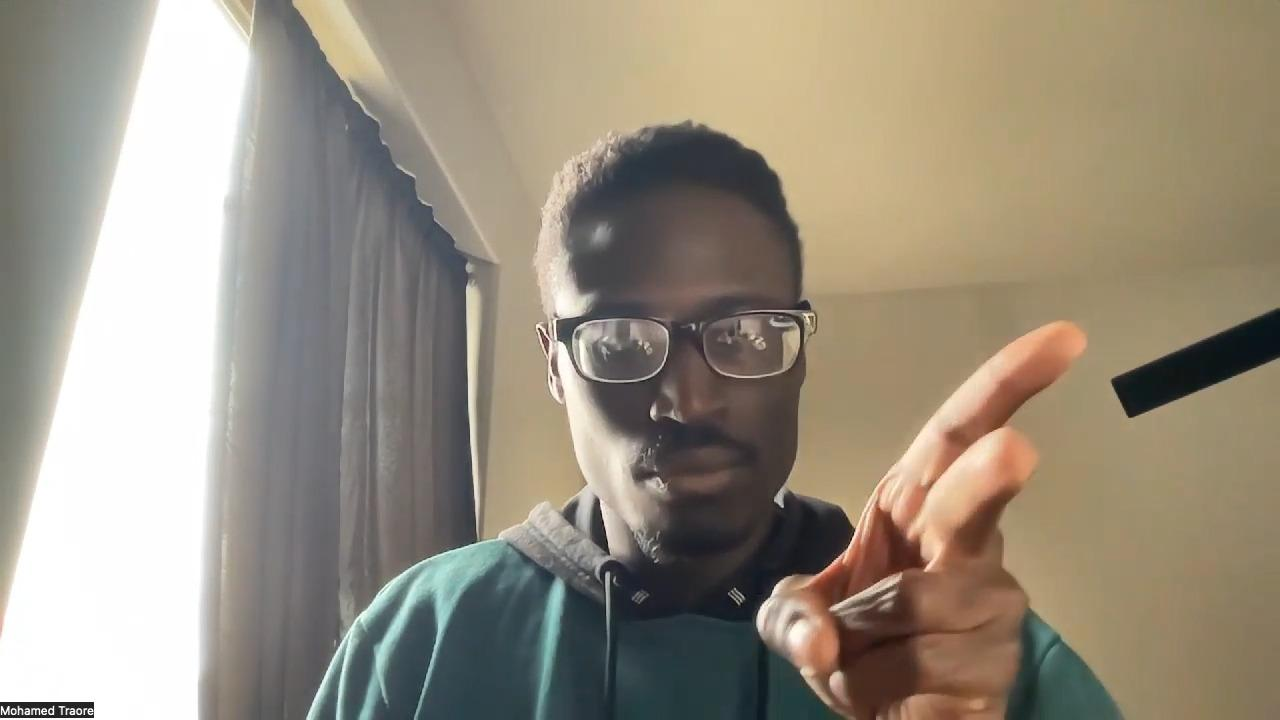Scissors: (753, 317, 1088, 720)
